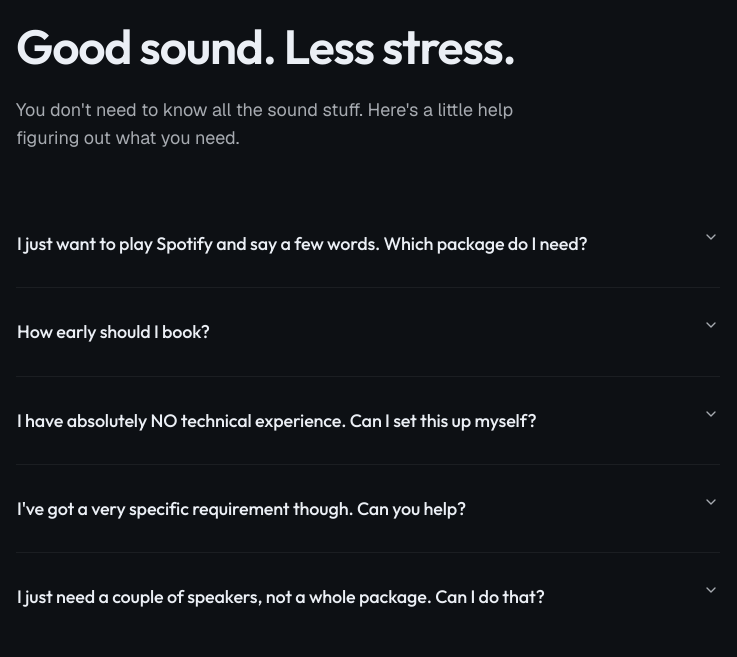
it: static site pages › FAQ page starts closed and opens package advice on request
The width and height of the screenshot is (737, 657).
Expected: the heading "Good sound. Less stress." is shown, [16, 16, 516, 76]
Click the button "I just want to play Spotify and say a few words. Which package do I need?". click: (368, 244)
box: [16, 200, 720, 287]
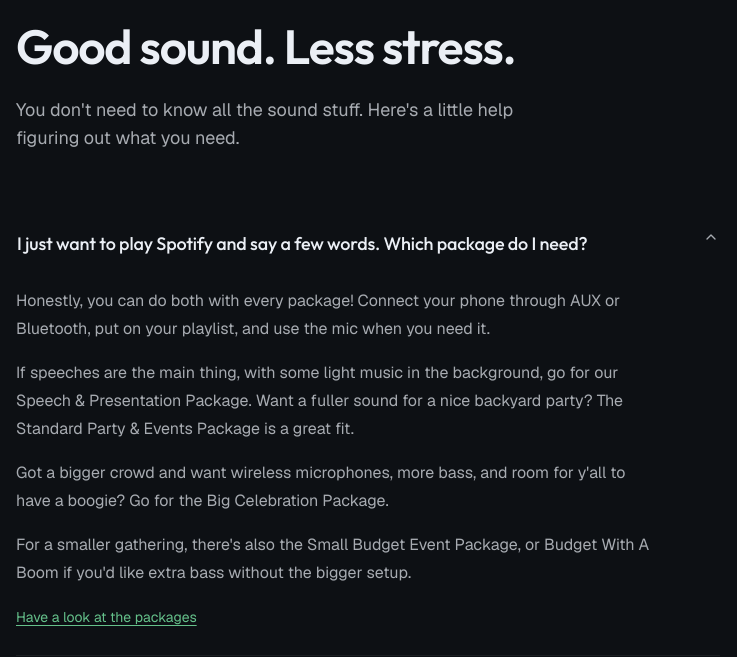
Result: the text "Honestly, you can do both with every package! Connect your phone through AUX or Bluetooth, put on your playlist, and use" is shown at [16, 290, 620, 339]
